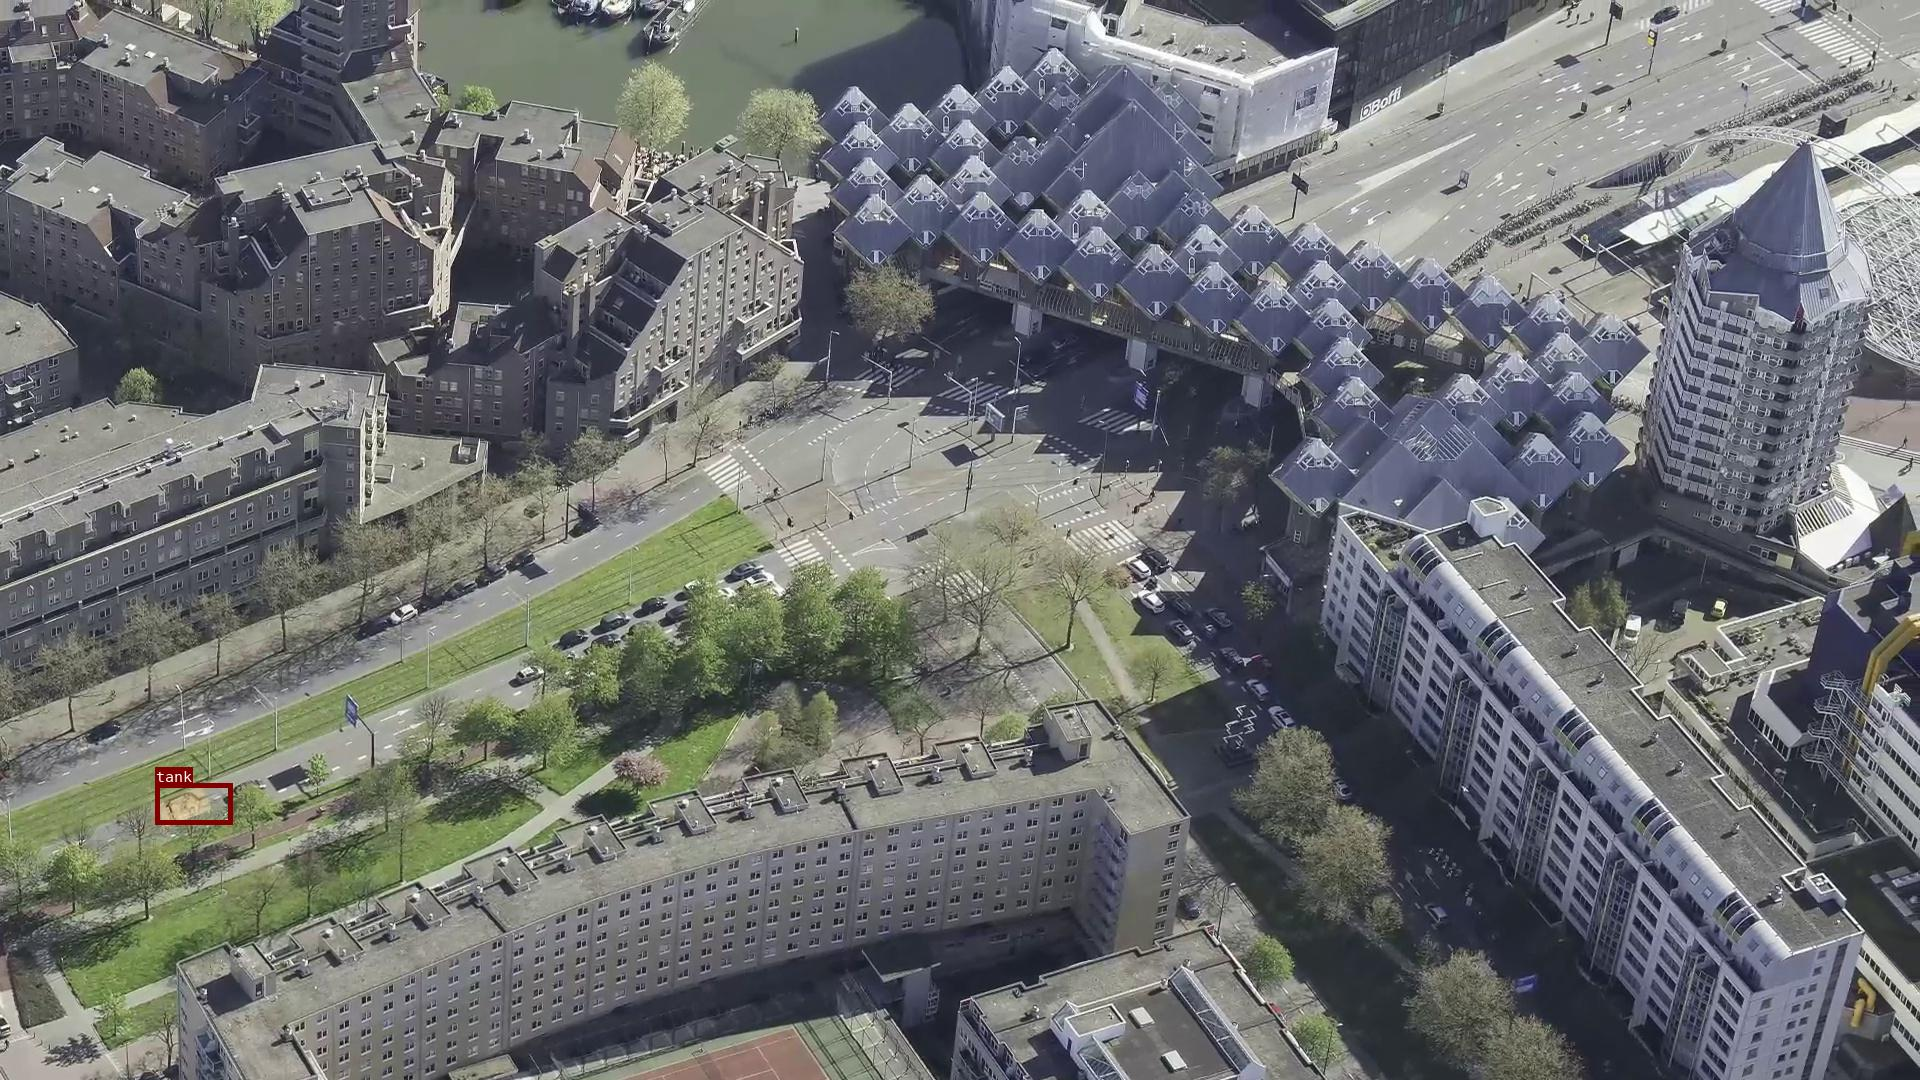tank: (156, 783, 232, 824)
